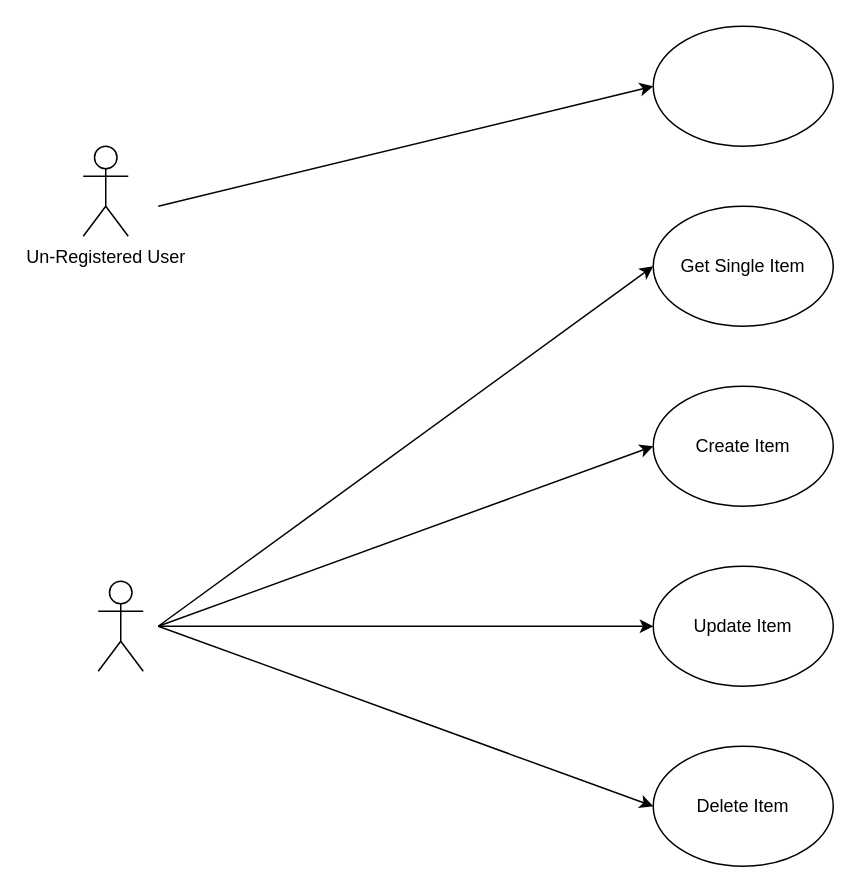
Some shapes in this 860 by 893 pixel diagram are drawn without their labels. The shapes that lost their labels are listed below. From the top down, each one's centre as x and y in pixels, then its label:
At (x=742, y=85): "Get All Items".
At (x=120, y=625): "Registered User".
